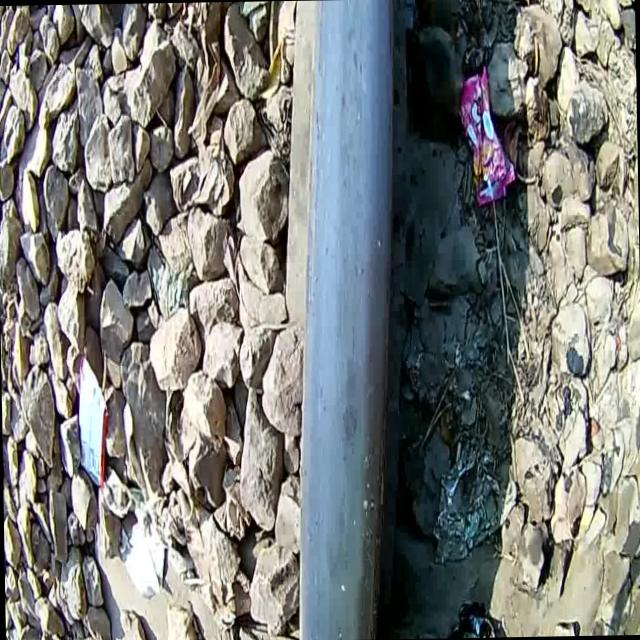Squats: (265, 0, 426, 640)
